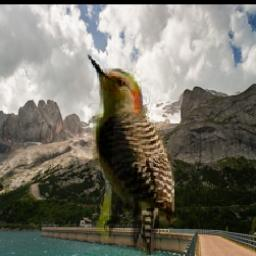Woodpecker: (85, 53, 174, 256)
